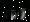person: (13, 8, 20, 20), (21, 9, 27, 21)
